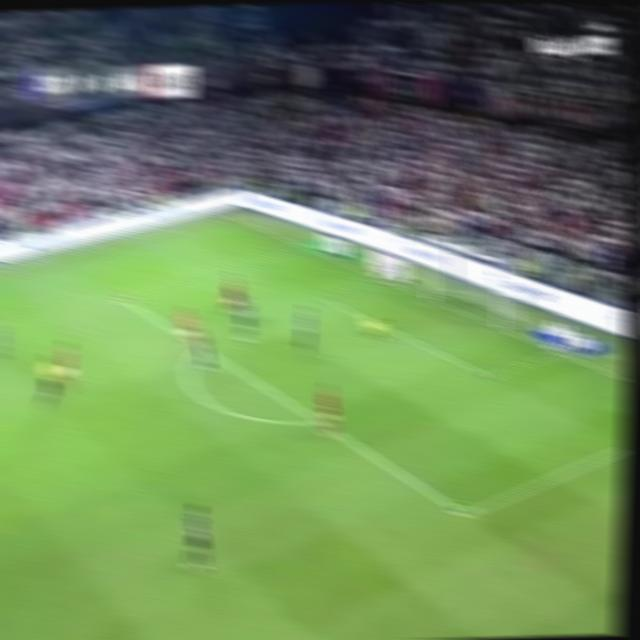bigarea_bottom_inner: (449, 498, 478, 526)
bigarea_top_inner: (113, 286, 137, 310)
bigarea_top_outter: (297, 239, 317, 255)
bottom_arc_area_intersection: (307, 410, 330, 431)
corner: (217, 208, 240, 221)
smallarea_bottom_inner: (478, 360, 504, 385)
smallarea_bottom_outter: (546, 342, 568, 359)
smallarea_top_inner: (315, 289, 336, 306)
smallarea_top_outter: (372, 272, 395, 288)
